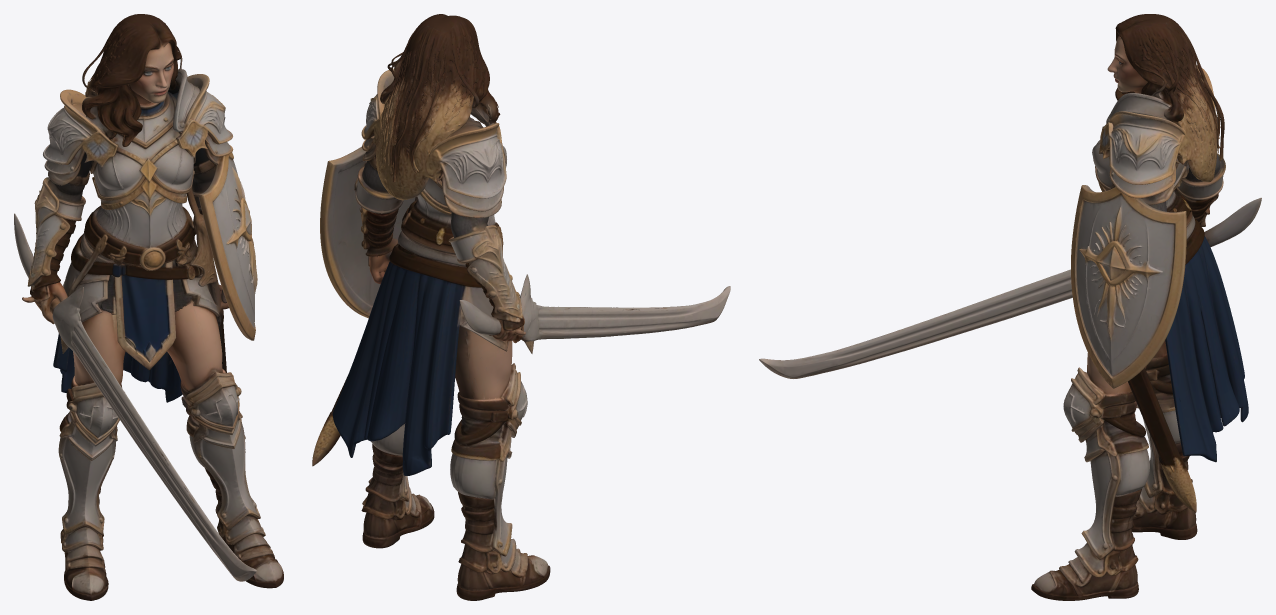
The model's file is warrior_full_female_01.glb.
The picture shows the model from 3 angles, left to right: view 1: azimuth 30°, elevation 25°; view 2: azimuth 150°, elevation 25°; view 3: azimuth 270°, elevation 25°; orthographic projection. The views are drawn at different scales.
Parts seen in each view (by area): view 1: material; view 2: material; view 3: material.
Boxes of the visible parts, x1,y1,x2,y2 form: material: [14, 14, 283, 600]; material: [312, 14, 730, 600]; material: [759, 14, 1261, 600].
Size of the model in its own units: 0.4036 by 1.01 by 0.8552.
Materials: 1 (1 with a texture image).
